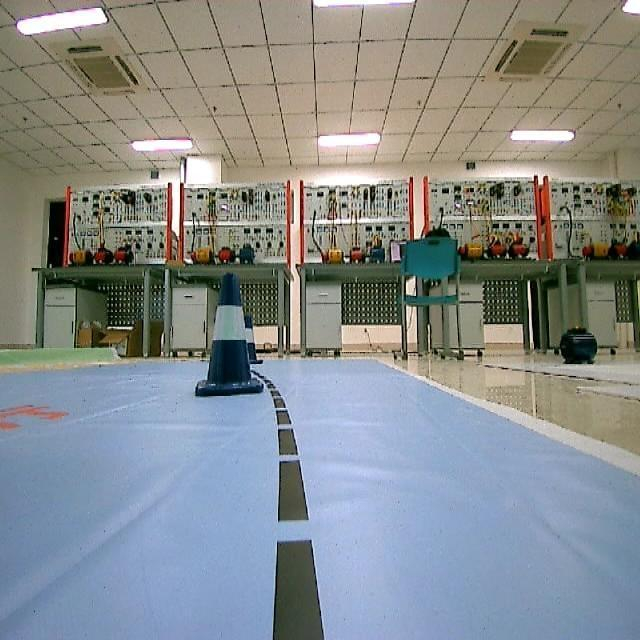obstacle: (186, 270, 272, 398)
